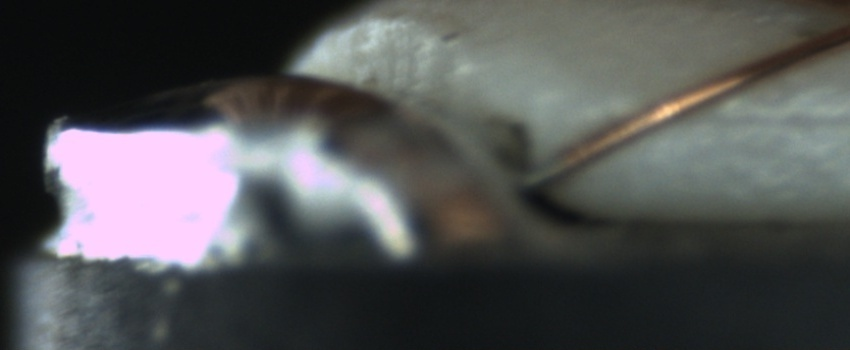DL: (675, 84, 850, 148)
TS: (526, 157, 568, 195)
